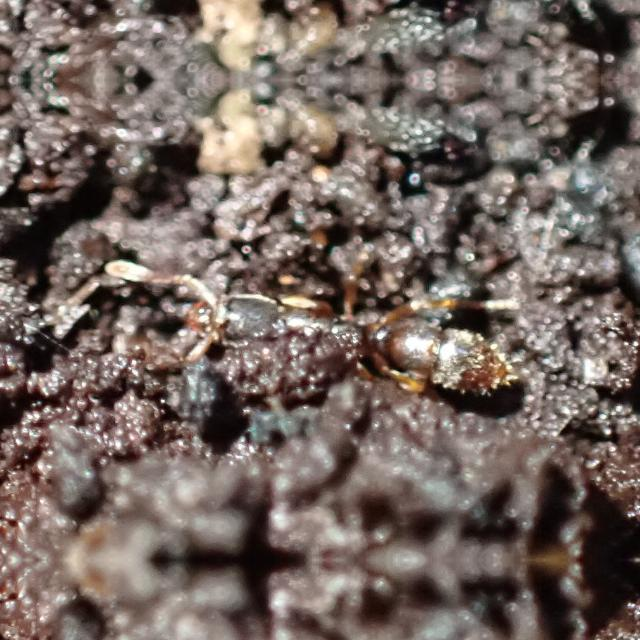Ponera: (120, 243, 534, 412)
